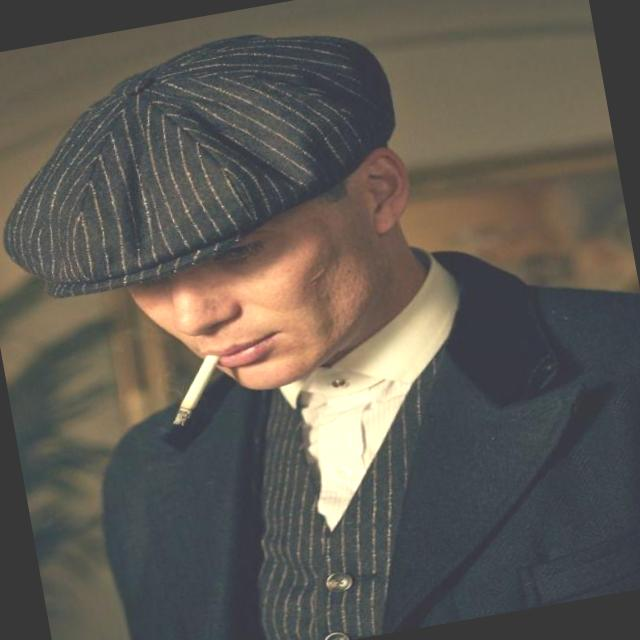cigarette: (140, 341, 253, 436)
